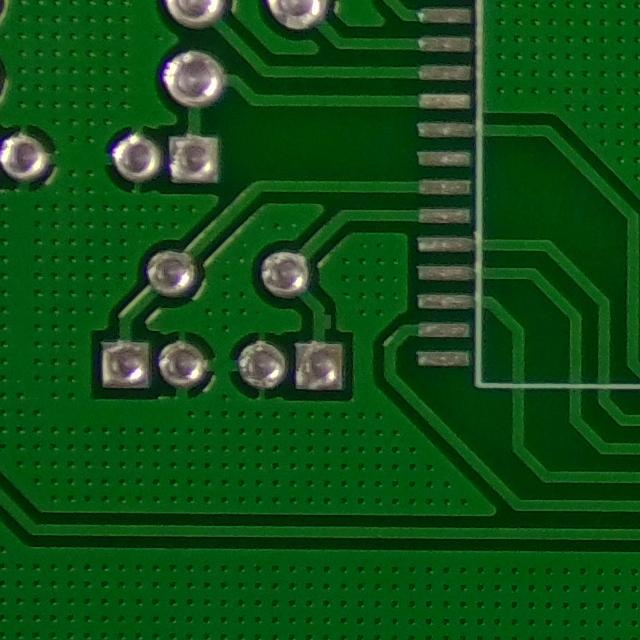spur: (304, 303, 337, 338)
